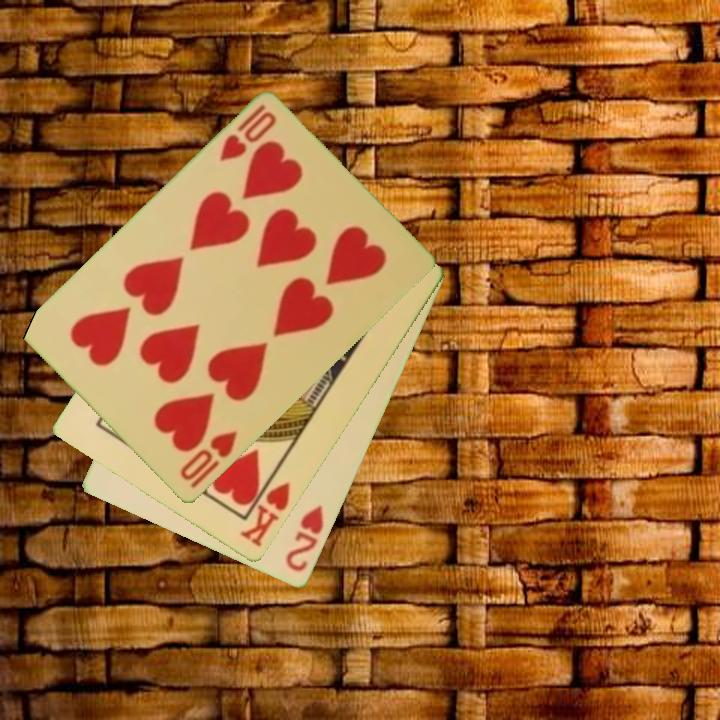10h: (216, 101, 279, 165), (176, 428, 241, 485)
2h: (282, 502, 327, 575)
Kh: (236, 468, 293, 551)
